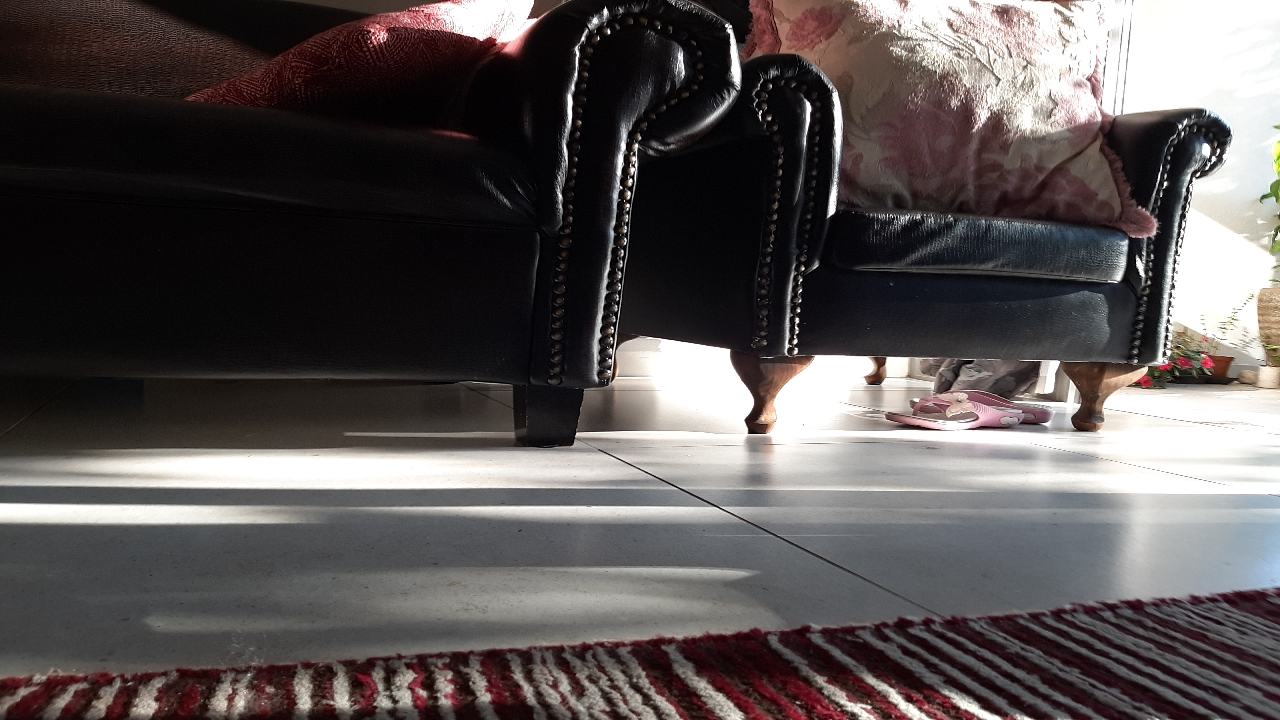sofa: (472, 328, 1187, 482)
